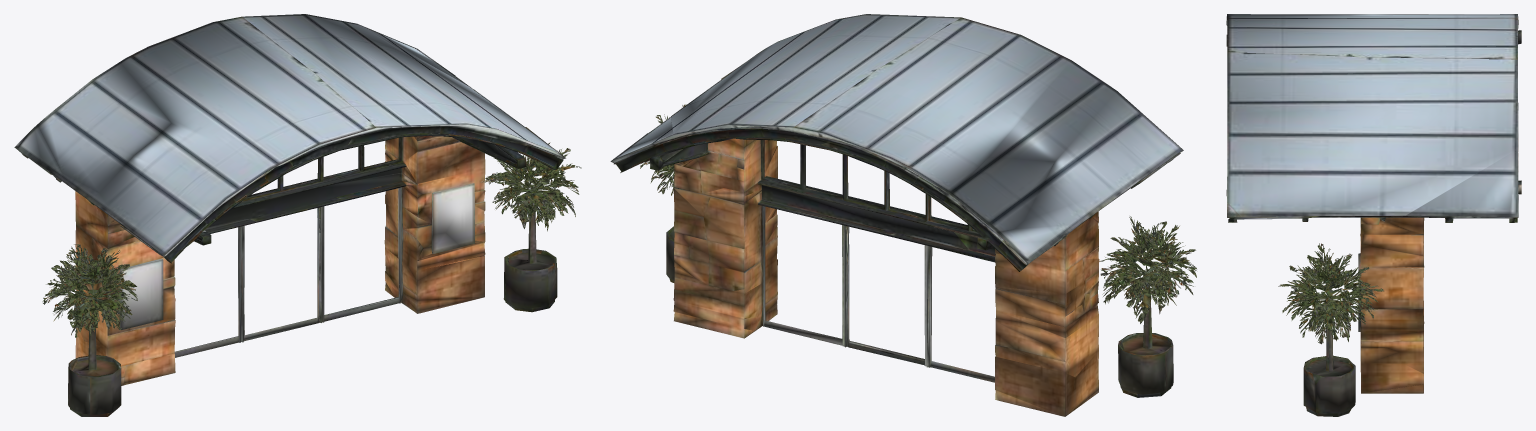
Rendered from mallgate.glb.
The picture shows the model from 3 angles, left to right: view 1: azimuth 30°, elevation 25°; view 2: azimuth 150°, elevation 25°; view 3: azimuth 270°, elevation 25°; orthographic projection. The views are drawn at different scales.
Bounding box in the file's own units: 1.9 × 0.8966 × 0.9316.
Materials: 1 (1 with a texture image).
